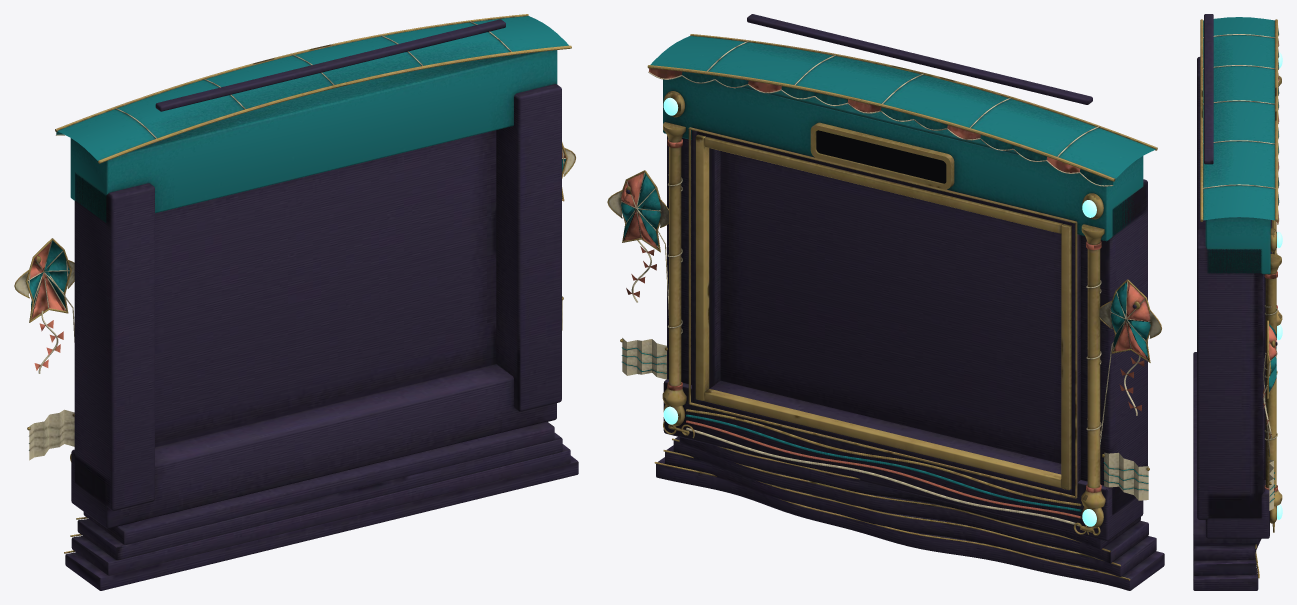
The picture shows the model from 3 angles, left to right: view 1: azimuth 30°, elevation 25°; view 2: azimuth 150°, elevation 25°; view 3: azimuth 270°, elevation 25°; orthographic projection. The views are drawn at different scales.
Parts seen in each view (by area): view 1: Violet_headland_slate, Teal_woven_canvas, Coastal_brushed_brass, Ivory_chart_and_sail_seams, Coral_woven_canvas; view 2: Violet_headland_slate, Teal_woven_canvas, Coastal_brushed_brass, Ivory_chart_and_sail_seams, Coral_woven_canvas, Uniform_display_face, Sea_glass_glow; view 3: Violet_headland_slate, Teal_woven_canvas, Coastal_brushed_brass, Ivory_chart_and_sail_seams, Coral_woven_canvas, Sea_glass_glow.
Part boxes in pixels (x1,y1,x2,y2): Violet_headland_slate: [65, 19, 578, 590]; Teal_woven_canvas: [27, 16, 568, 450]; Coastal_brushed_brass: [14, 14, 575, 553]; Ivory_chart_and_sail_seams: [15, 21, 574, 460]; Coral_woven_canvas: [28, 147, 565, 370]; Violet_headland_slate: [626, 14, 1164, 590]; Teal_woven_canvas: [621, 36, 1155, 511]; Coastal_brushed_brass: [607, 34, 1161, 580]; Ivory_chart_and_sail_seams: [608, 41, 1160, 526]; Coral_woven_canvas: [621, 68, 1150, 518]; Uniform_display_face: [816, 130, 946, 183]; Sea_glass_glow: [663, 97, 1096, 526]; Violet_headland_slate: [1193, 14, 1277, 590]; Teal_woven_canvas: [1203, 17, 1278, 502]; Coastal_brushed_brass: [1200, 19, 1282, 578]; Ivory_chart_and_sail_seams: [1203, 25, 1279, 510]; Coral_woven_canvas: [1262, 40, 1278, 491]; Sea_glass_glow: [1277, 52, 1282, 519].
Bounding box in the file's own units: 12.66 × 10 × 2.01.
Materials: 7 (6 with a texture image).
